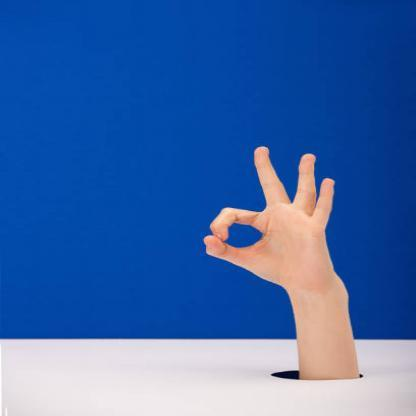ok: (198, 142, 344, 292)
